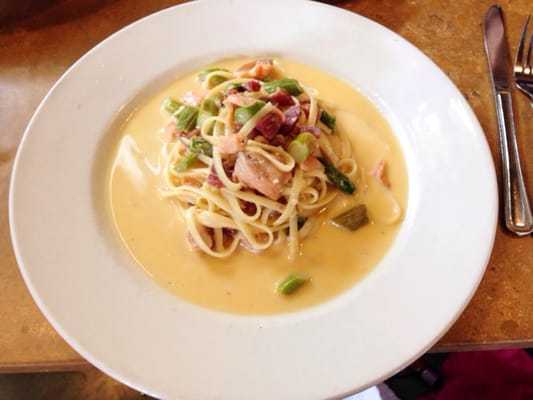sushi: (7, 2, 514, 398)
